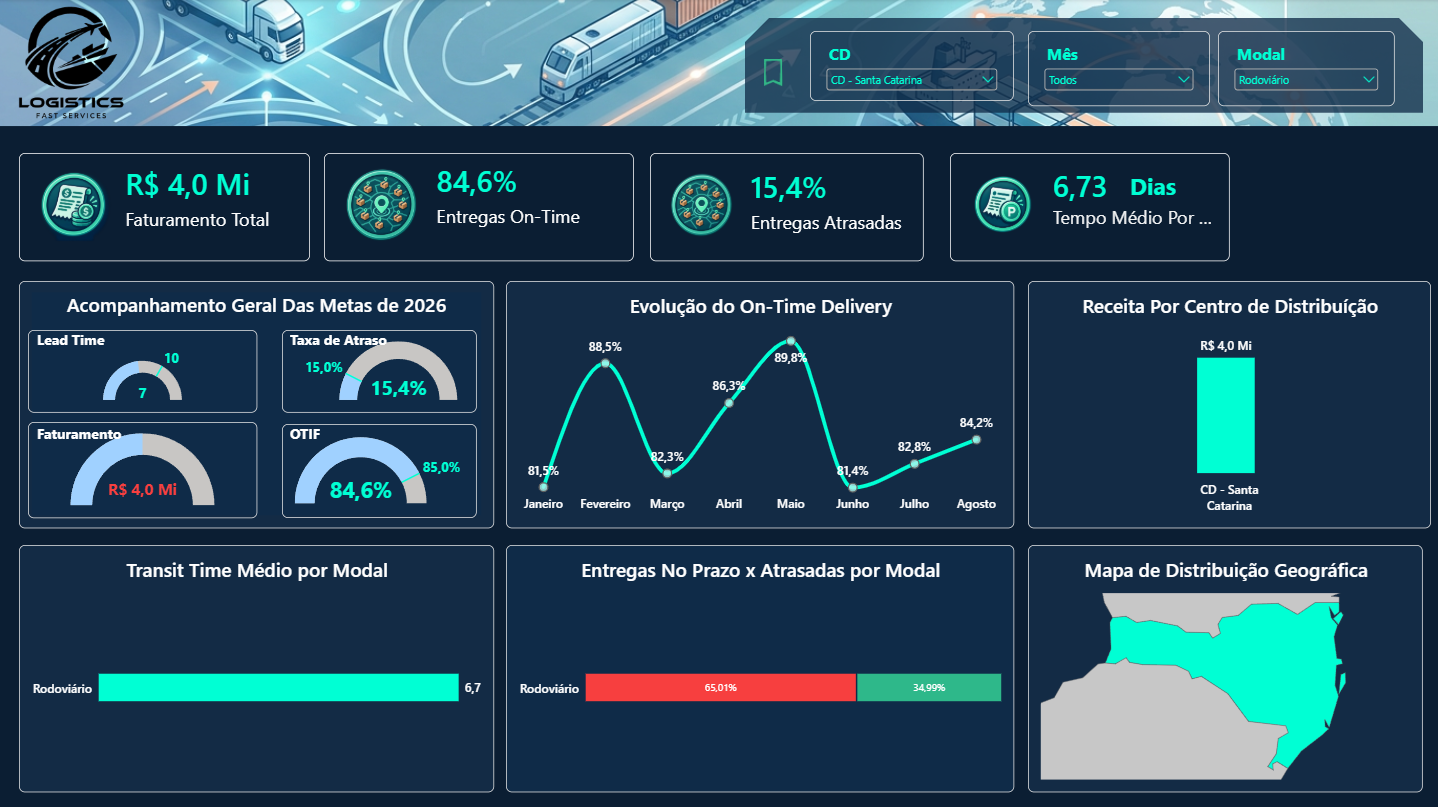

This screenshot's page, from the dashboard's own definition file:
{"tool":"powerbi","page":{"name":"Página 1","canvas":[1920,1080],"ordinal":0},"visuals":[{"type":"image","box":[0,0,1920.6,168.9],"z":0},{"type":"shape","box":[993.5,25.3,901.8,126.4],"z":1000},{"type":"lineChart","title":"Evolução do On-Time Delivery","fields":{"Category":["performance_entregas_semanal.Mês"],"Y":["performance_entregas_semanal.Taxa de Sucesso Geral"]},"box":[675.7,375.1,675.7,328.5],"z":2000},{"type":"columnChart","title":"Receita Por Centro de Distribuíção","fields":{"Category":["performance_entregas_semanal.CD"],"Y":["performance_entregas_semanal.Faturamento Total"]},"box":[1370,375.1,536,328.5],"z":3000},{"type":"slicer","fields":{"Values":["performance_entregas_semanal.Modal"]},"box":[1622.7,42.6,235.4,99.8],"z":4000},{"type":"slicer","fields":{"Values":["performance_entregas_semanal.Mês"]},"box":[1370,42.6,242.1,99.8],"z":5000},{"type":"slicer","fields":{"Values":["performance_entregas_semanal.CD"]},"box":[1080,42.6,271.3,93.1],"z":6000},{"type":"barChart","fields":{"Category":["performance_entregas_semanal.Modal"],"Y":["performance_entregas_semanal.Transit Time Médio"]},"box":[27.9,726.2,631.8,328.5],"z":7000},{"type":"cardVisual","title":"Tempo Médio de entrega","fields":{"Data":["performance_entregas_semanal.Faturamento Total"]},"box":[27.9,204.8,387,143.6],"z":8000},{"type":"shapeMap","title":"Mapa de Distribuição Geográfica","fields":{"Category":["performance_entregas_semanal.Estado"],"Value":["CountNonNull(performance_entregas_semanal.Quantidade de Entregas Realizadas)"]},"box":[1370,726.2,525.4,328.5],"z":9000},{"type":"cardVisual","fields":{"Data":["performance_entregas_semanal.On-Time Delivery (OTD)"]},"box":[433.6,204.8,412.3,143.6],"z":10000},{"type":"cardVisual","fields":{"Data":["performance_entregas_semanal.Late Deliveries (LD)"]},"box":[867.2,204.8,364.4,143.6],"z":11000},{"type":"cardVisual","fields":{"Data":["performance_entregas_semanal.Transit Time Médio"]},"box":[1266.2,204.8,372.4,143.6],"z":12000},{"type":"image","box":[960.3,49.2,139.7,93.1],"z":13000},{"type":"image","box":[0,0,195.5,168.9],"z":14000},{"type":"hundredPercentStackedBarChart","title":"Entregas No Prazo x Atrasadas por Modal","fields":{"Category":["performance_entregas_semanal.Modal"],"Series":["performance_entregas_semanal.No Prazo"],"Y":["performance_entregas_semanal.Total de entregas"]},"box":[675.7,726.2,675.7,328.5],"z":15000},{"type":"textbox","title":"Dias ","box":[1505.6,227.4,78.5,49.2],"z":16000},{"type":"shape","box":[27.9,375.1,631.8,328.5],"z":17000},{"type":"textbox","title":"Acompanhamento Geral Das Metas de 2026","box":[27.9,375.1,631.8,55.9],"z":18000},{"type":"gauge","title":"OTIF","fields":{"TargetValue":["performance_entregas_semanal.Meta OTIF"],"Y":["performance_entregas_semanal.Entregas On-Time"]},"box":[377.7,565.3,259.4,125],"z":19000},{"type":"gauge","fields":{"TargetValue":["performance_entregas_semanal.Meta Faturamento"],"Y":["performance_entregas_semanal.Faturamento Total"]},"box":[39.9,562.6,304.6,127.7],"z":20000},{"type":"gauge","fields":{"TargetValue":["performance_entregas_semanal.Meta Lead Time"],"Y":["Avg(performance_entregas_semanal.Tempo Médio de Entrega (dias))"]},"box":[39.9,440.2,304.6,110.4],"z":21000},{"type":"textbox","title":"Lead Time","box":[51.9,440.2,102.4,25.3],"z":22000},{"type":"gauge","fields":{"TargetValue":["performance_entregas_semanal.Limite Atraso"],"Y":["performance_entregas_semanal.Entregas Atrasadas"]},"box":[377.7,440.2,259.4,110.4],"z":23000},{"type":"textbox","title":"Taxa de Atraso","box":[388.4,440.2,139.7,25.3],"z":24000},{"type":"textbox","title":"OTIF","box":[388.4,565.3,54.5,31.9],"z":25000},{"type":"textbox","title":"Faturamento","box":[51.9,565.3,117,21.3],"z":26000}]}

Visuals, with their boxes in screenshot pixels (x1, y1, x2, y2), scaled from the page's 1920x1080 canvas onto the 1438x807 screenshot:
image: left=0, top=0, right=1437, bottom=126
shape: left=744, top=19, right=1420, bottom=113
"Evolução do On-Time Delivery" lineChart: left=506, top=280, right=1012, bottom=526
"Receita Por Centro de Distribuíção" columnChart: left=1026, top=280, right=1428, bottom=526
slicer - performance_entregas_semanal.Modal: left=1215, top=32, right=1392, bottom=106
slicer - performance_entregas_semanal.Mês: left=1026, top=32, right=1207, bottom=106
slicer - performance_entregas_semanal.CD: left=809, top=32, right=1012, bottom=101
barChart - performance_entregas_semanal.Modal x performance_entregas_semanal.Transit Time Médio: left=21, top=543, right=494, bottom=788
"Tempo Médio de entrega" cardVisual: left=21, top=153, right=311, bottom=260
"Mapa de Distribuição Geográfica" shapeMap: left=1026, top=543, right=1420, bottom=788
cardVisual - performance_entregas_semanal.On-Time Delivery (OTD): left=325, top=153, right=634, bottom=260
cardVisual - performance_entregas_semanal.Late Deliveries (LD): left=649, top=153, right=922, bottom=260
cardVisual - performance_entregas_semanal.Transit Time Médio: left=948, top=153, right=1227, bottom=260
image: left=719, top=37, right=824, bottom=106
image: left=0, top=0, right=146, bottom=126
"Entregas No Prazo x Atrasadas por Modal" hundredPercentStackedBarChart: left=506, top=543, right=1012, bottom=788
"Dias " textbox: left=1128, top=170, right=1186, bottom=207
shape: left=21, top=280, right=494, bottom=526
"Acompanhamento Geral Das Metas de 2026" textbox: left=21, top=280, right=494, bottom=322
"OTIF" gauge: left=283, top=422, right=477, bottom=516
gauge - performance_entregas_semanal.Meta Faturamento x performance_entregas_semanal.Faturamento Total: left=30, top=420, right=258, bottom=516
gauge - performance_entregas_semanal.Meta Lead Time x Avg(performance_entregas_semanal.Tempo Médio de Entrega (dias)): left=30, top=329, right=258, bottom=411
"Lead Time" textbox: left=39, top=329, right=116, bottom=348
gauge - performance_entregas_semanal.Limite Atraso x performance_entregas_semanal.Entregas Atrasadas: left=283, top=329, right=477, bottom=411
"Taxa de Atraso" textbox: left=291, top=329, right=396, bottom=348
"OTIF" textbox: left=291, top=422, right=332, bottom=446
"Faturamento" textbox: left=39, top=422, right=126, bottom=438
